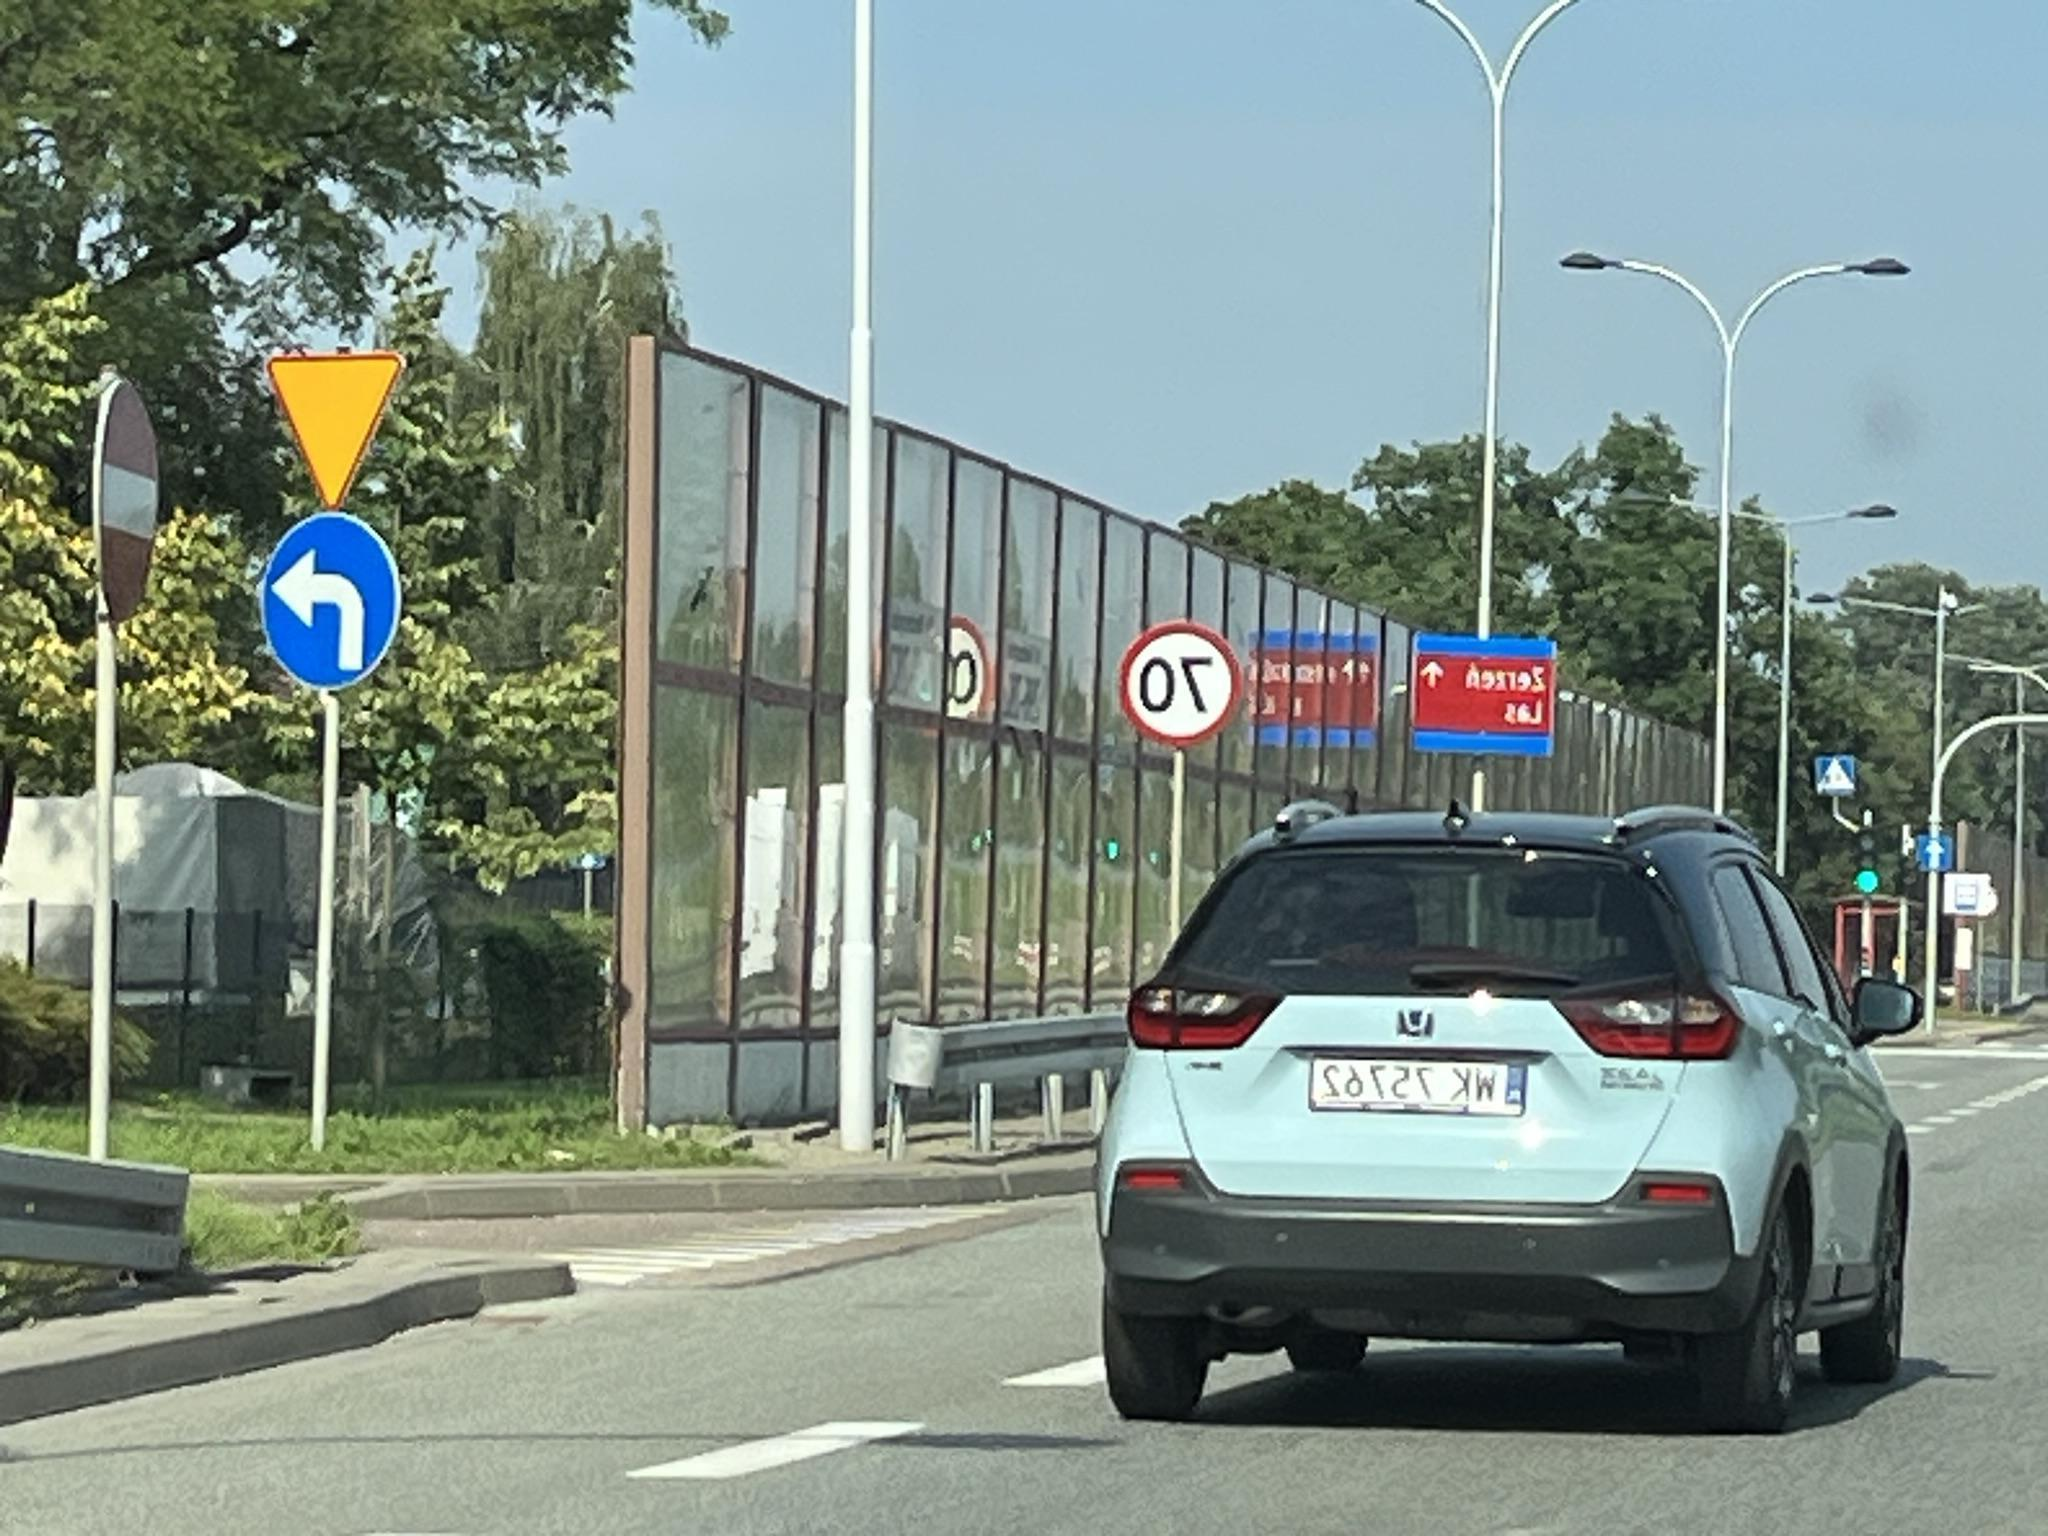information: (1816, 757, 1858, 800), (1917, 837, 1951, 874)
mandatory: (261, 515, 402, 692)
prohibitory: (90, 378, 166, 623), (1116, 623, 1242, 744)
warning: (268, 345, 408, 511)
